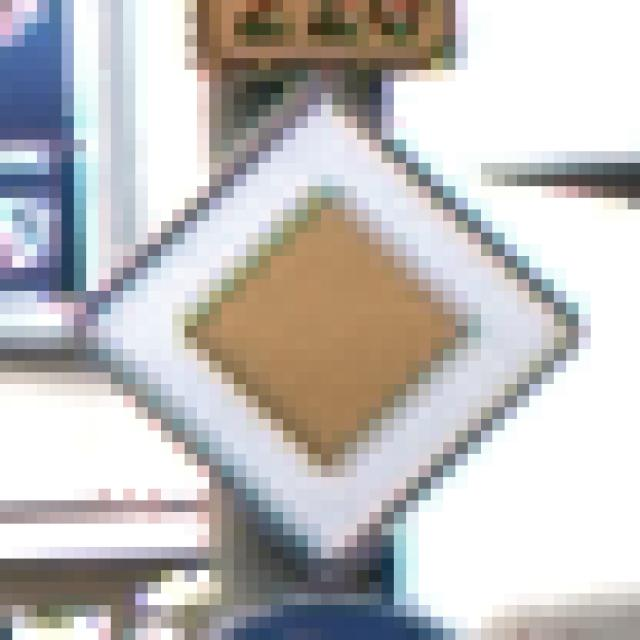Main Road: (63, 59, 580, 583)
